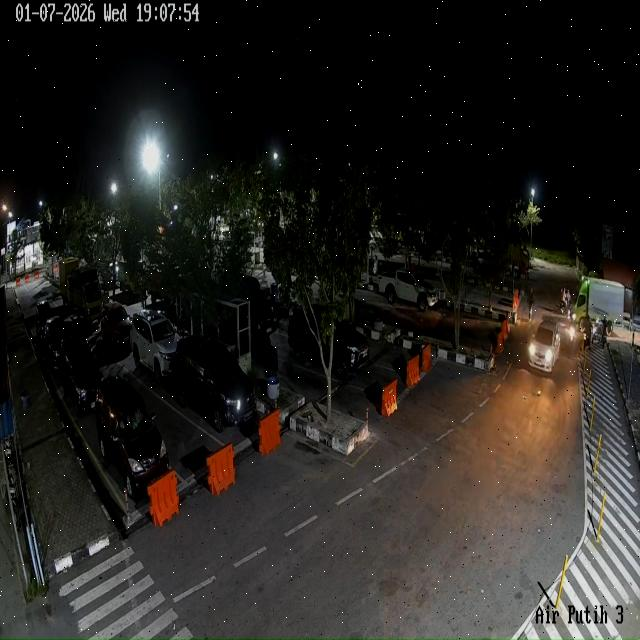Golongan IVA: (96, 376, 169, 499), (173, 336, 256, 432), (288, 307, 369, 380), (129, 309, 178, 384), (59, 334, 103, 416), (240, 276, 278, 336), (528, 321, 561, 374), (101, 301, 131, 345), (44, 316, 68, 369), (36, 300, 52, 340)
Golongan IVB: (378, 270, 438, 312)
Golongan VB: (59, 258, 108, 322), (571, 277, 625, 335)
